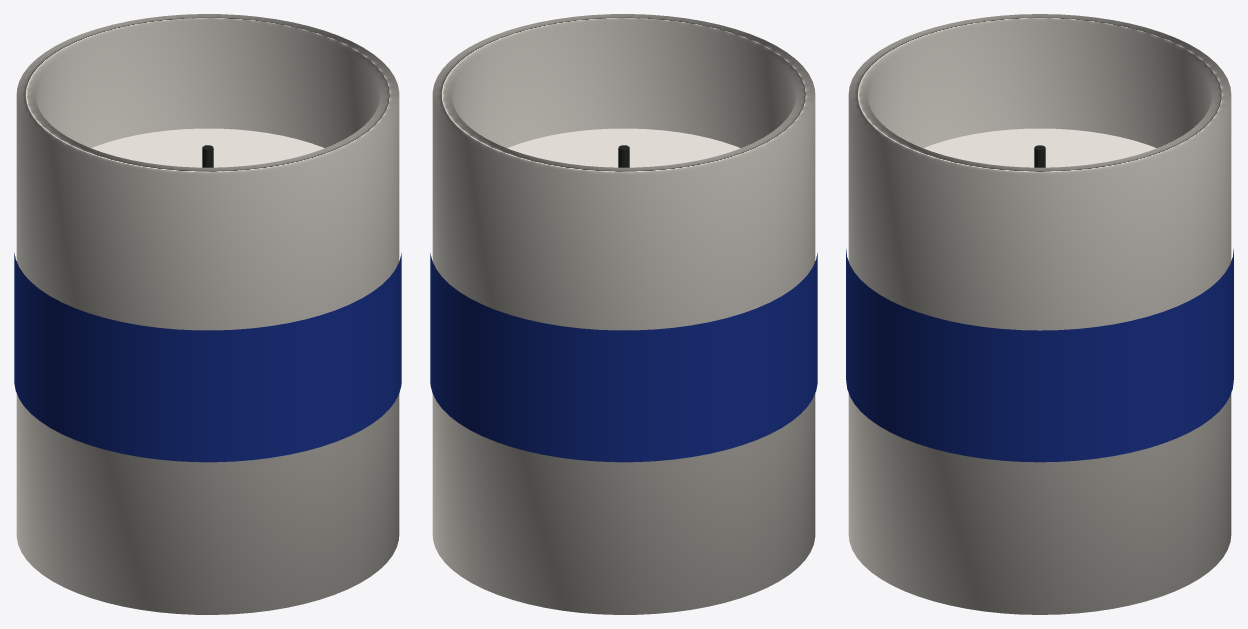
Rendered from vela-copo.glb.
3 views of the same model, side by side, from view 1: azimuth 30°, elevation 25°; view 2: azimuth 150°, elevation 25°; view 3: azimuth 270°, elevation 25° (orthographic).
Parts seen in each view (by area): view 1: vela-copo; view 2: vela-copo; view 3: vela-copo.
Part boxes in pixels (left/top/right/bottom): vela-copo: left=14, top=14, right=401, bottom=614; vela-copo: left=430, top=14, right=817, bottom=614; vela-copo: left=846, top=14, right=1233, bottom=614.
Size of the model in its own units: 0.08 by 0.1 by 0.08.
